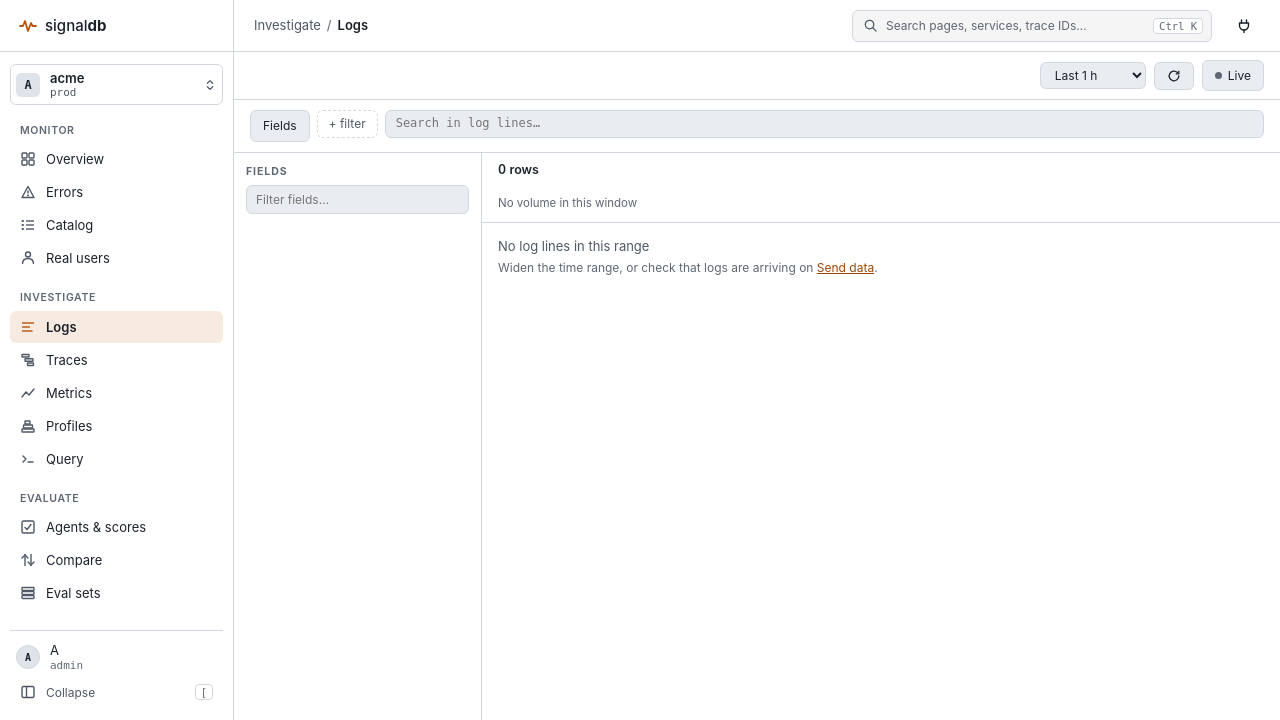
it: App › changes the tenant and dataset from the sidebar switcher
Click the button with aria-label "Switch tenant or dataset" at {"x": 116, "y": 85}, box 10,64 -> 223,105
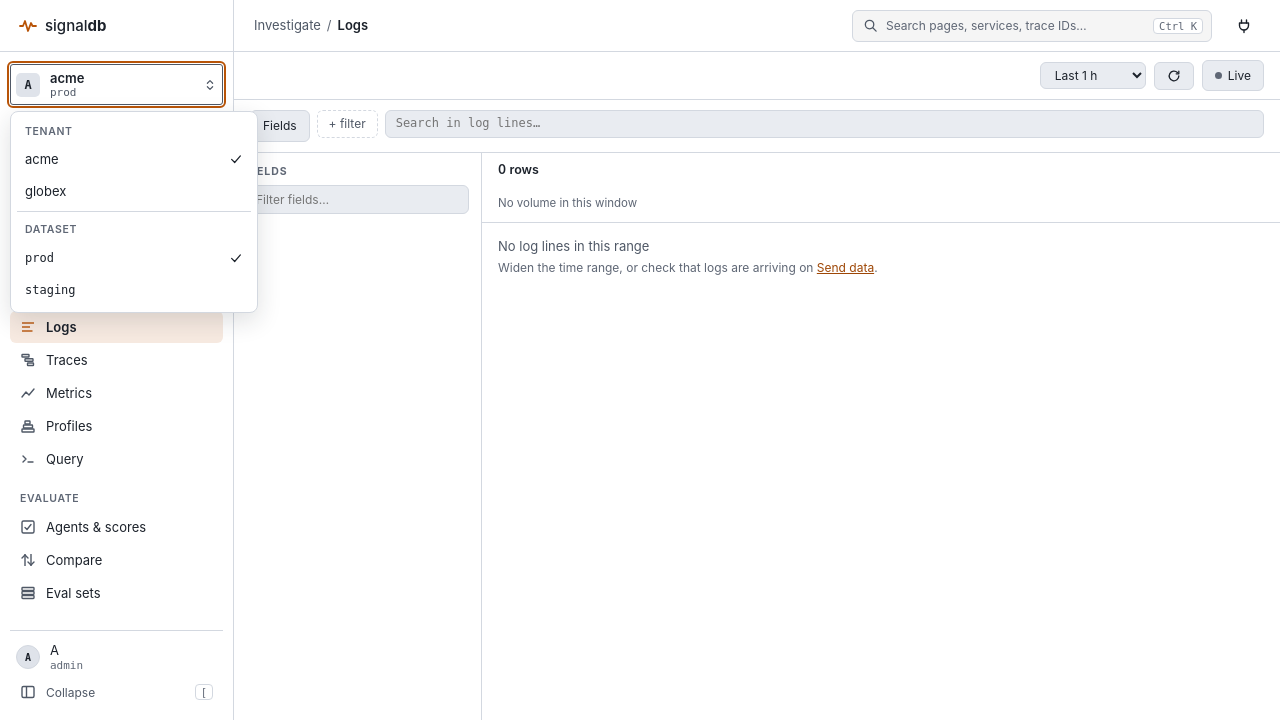
# Picking a tenant resets the dataset and keeps the popover open …
Click the option "globex" at {"x": 134, "y": 192}, box 17,176 -> 251,208
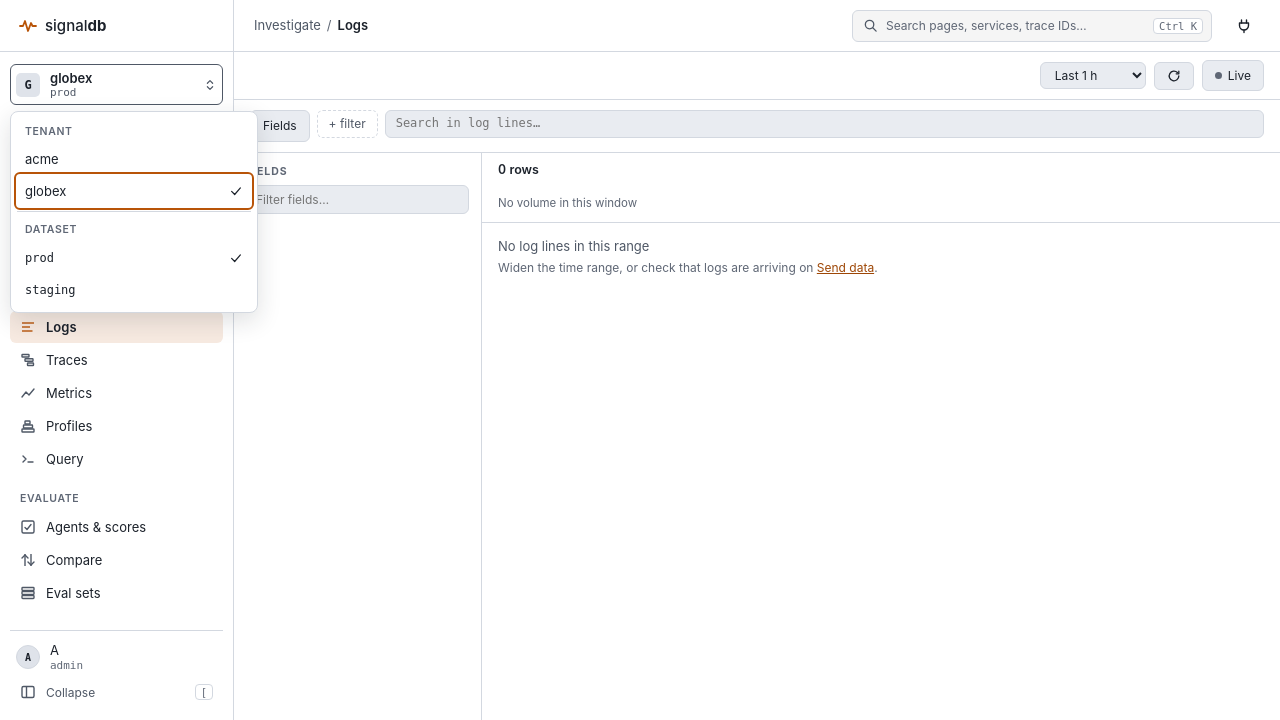
# … picking a dataset applies it and closes the popover.
Click the option "staging" at {"x": 134, "y": 290}, box 17,274 -> 251,306
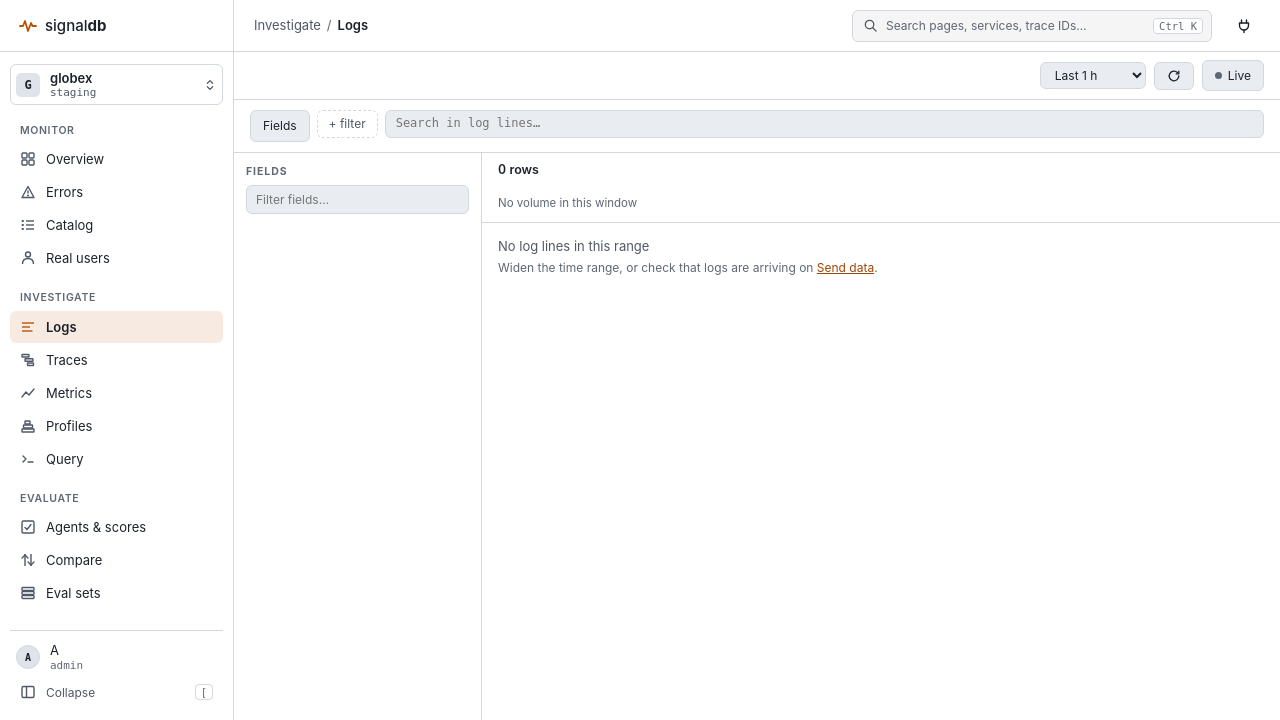
Expected: the text "Tenant" is gone
